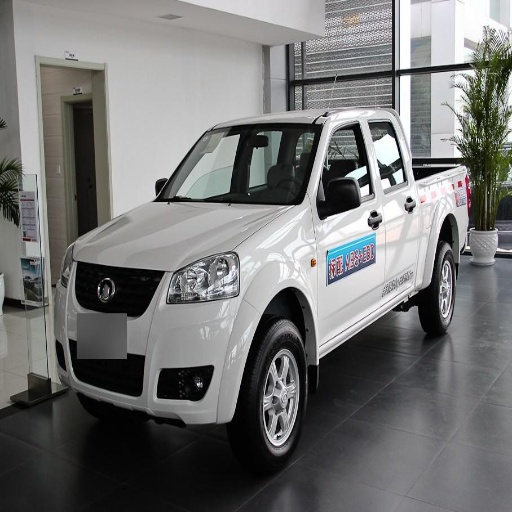back_left_door: (364, 117, 424, 288)
front_bumper: (53, 258, 262, 424)
front_glass: (157, 124, 321, 203)
front_left_door: (315, 119, 386, 343)
trunk: (420, 168, 474, 279)
